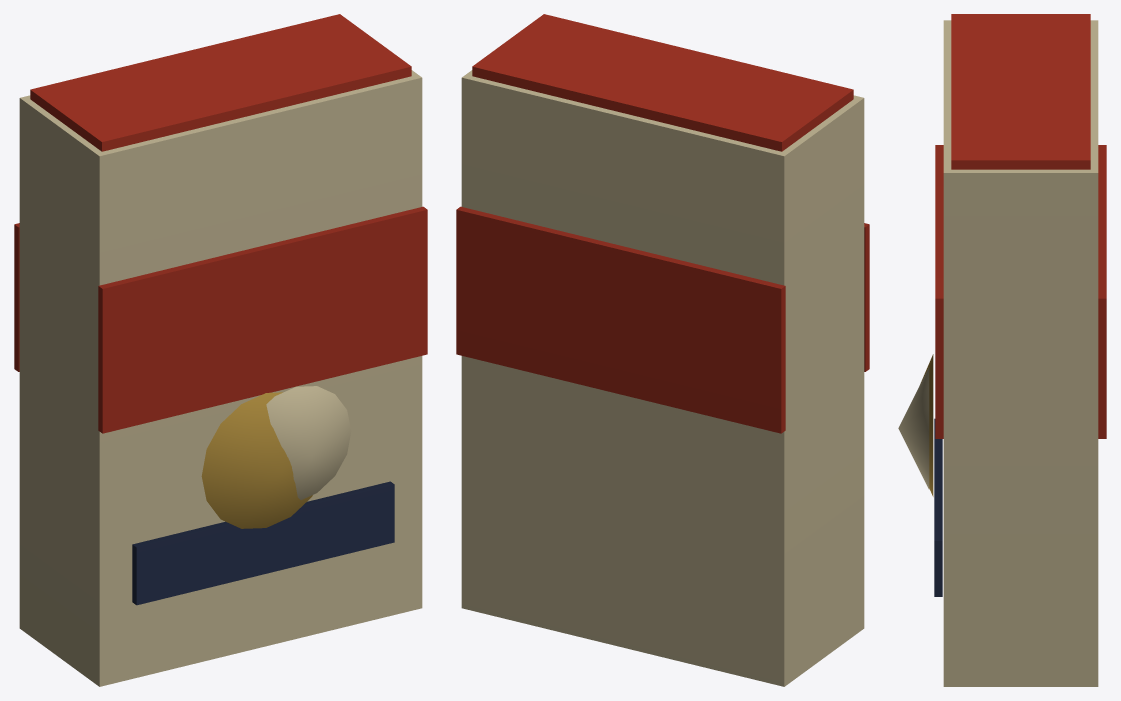
The model's file is lot_ame.glb.
3 views of the same model, side by side, from view 1: azimuth 30°, elevation 25°; view 2: azimuth 150°, elevation 25°; view 3: azimuth 270°, elevation 25° (orthographic). The views are drawn at different scales.
Visible parts, largest first — view 1: ame; view 2: ame; view 3: ame.
Part boxes in pixels (box(x1,y1,x2,y2)): ame: box(14, 14, 427, 686); ame: box(456, 14, 869, 686); ame: box(898, 14, 1106, 686).
Size of the model in its own units: 0.0705 by 0.112 by 0.0404.
